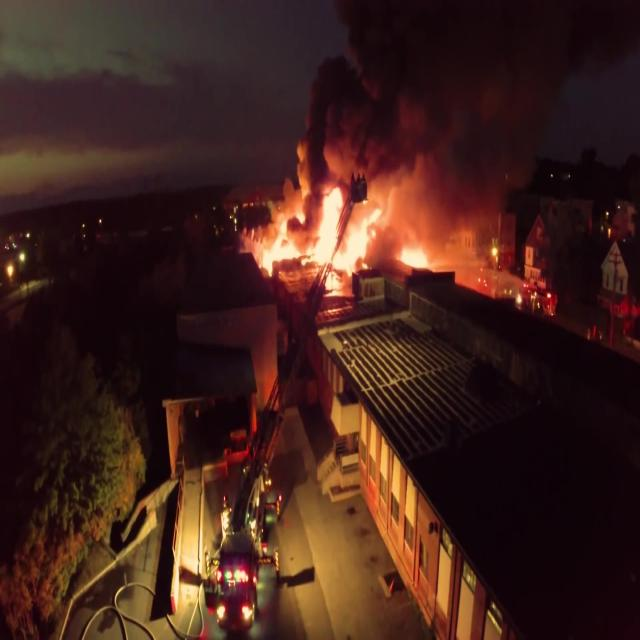Fire: (255, 185, 430, 291)
Smoke: (276, 0, 596, 248)
